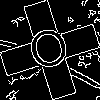O: (25, 25, 75, 80)
